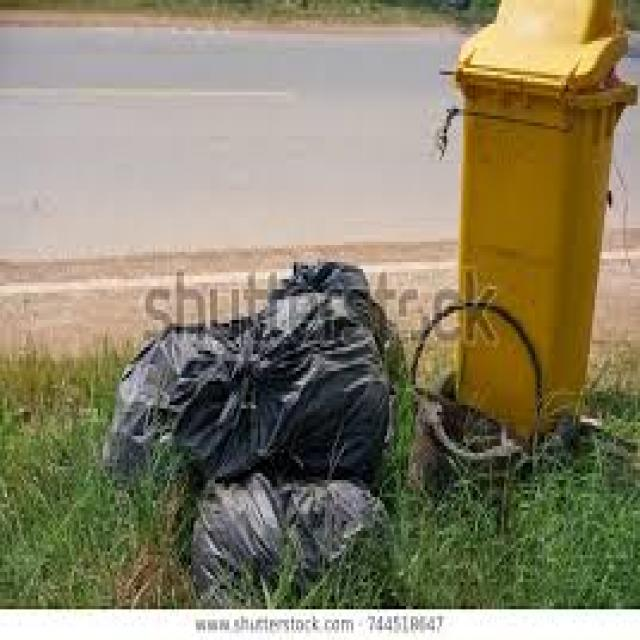plastic_bag: (104, 301, 393, 495), (210, 475, 303, 577)
